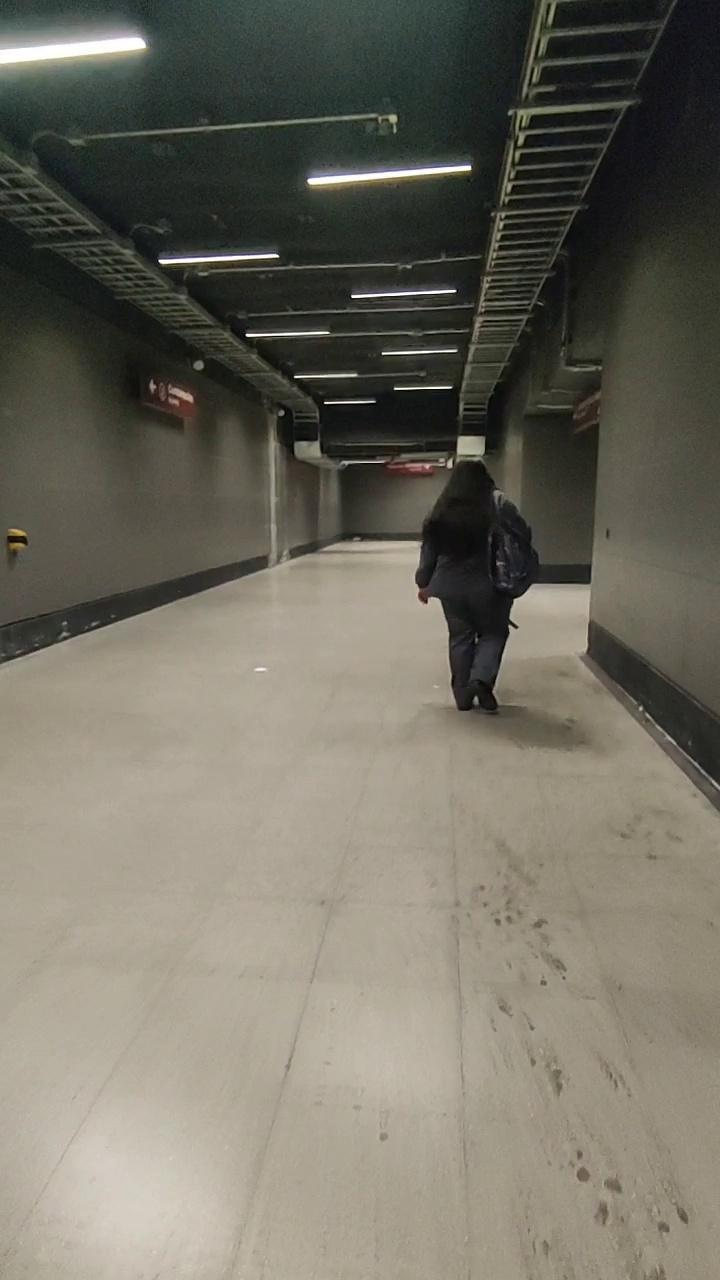left arrow: (146, 379, 158, 399)
